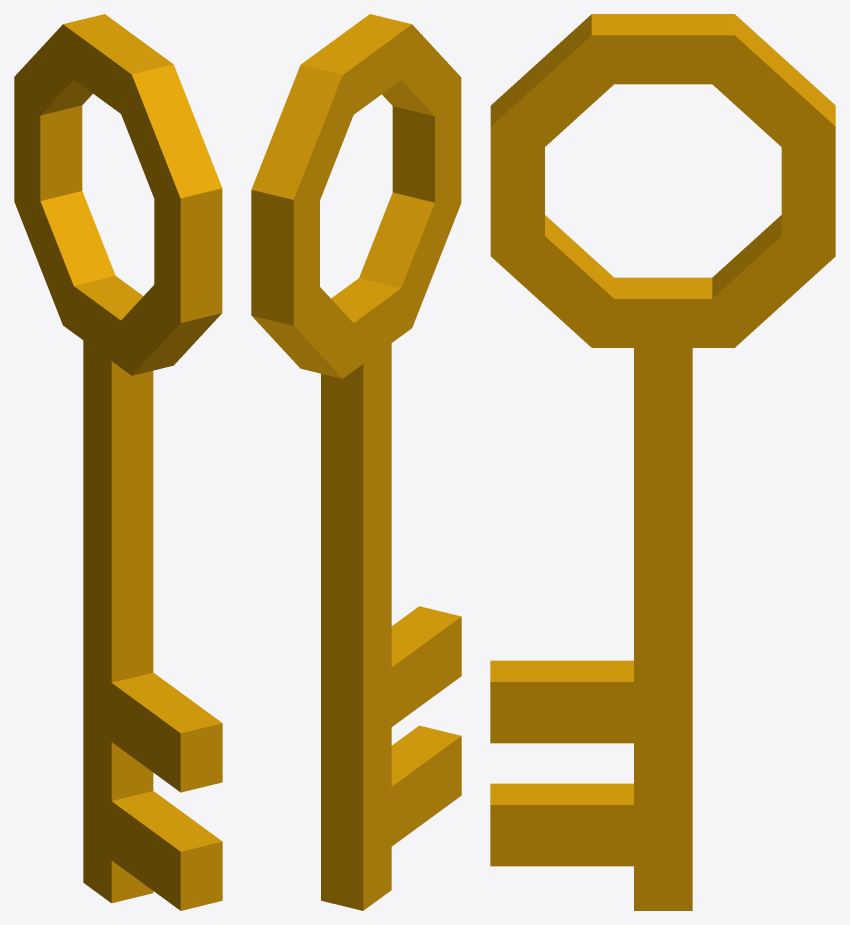
File: dungeon key.glb
3 renders of one model, left to right at view 1: azimuth 30°, elevation 25°; view 2: azimuth 150°, elevation 25°; view 3: azimuth 270°, elevation 25°, orthographic. The views are drawn at different scales.
Visible parts, largest first — view 1: Circle; view 2: Circle; view 3: Circle.
Boxes of the visible parts, left/top/right/bottom form: Circle: left=14, top=14, right=222, bottom=910; Circle: left=251, top=14, right=461, bottom=910; Circle: left=490, top=14, right=835, bottom=910.
Bounding box in the file's own units: 0.0122 × 0.2356 × 0.0843.
